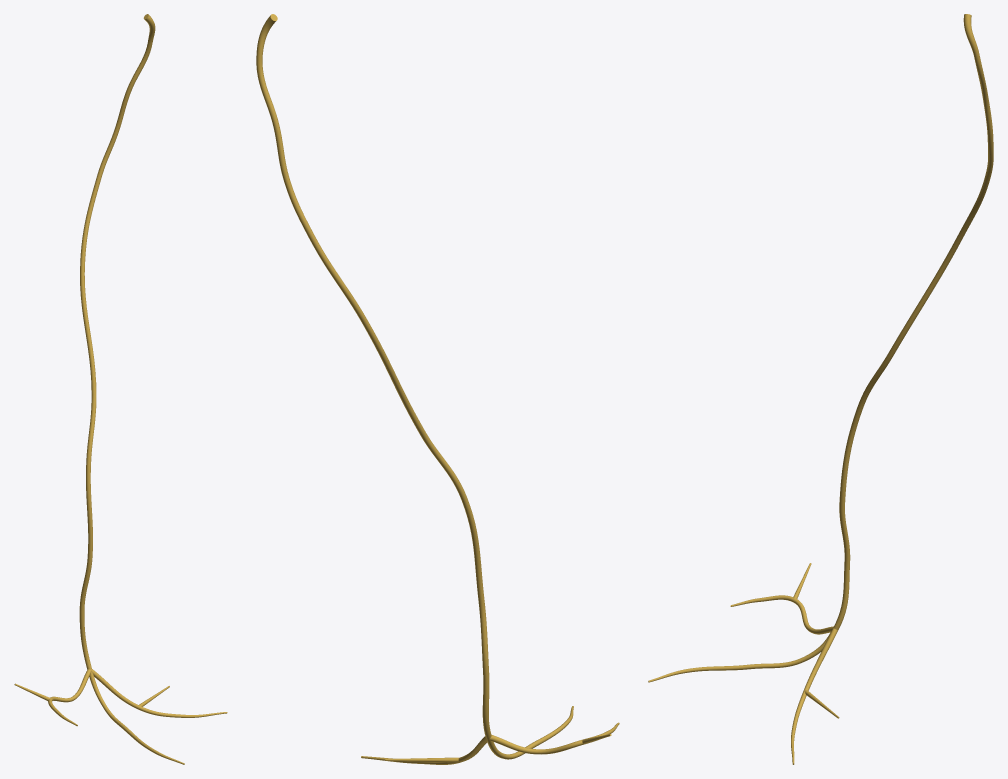
3 views of the same model, side by side, from view 1: azimuth 30°, elevation 25°; view 2: azimuth 150°, elevation 25°; view 3: azimuth 270°, elevation 25° (orthographic). The views are drawn at different scales.
Visible parts, largest first — view 1: 右侧眼神经; view 2: 右侧眼神经; view 3: 右侧眼神经.
Part boxes in pixels (<box>): 右侧眼神经: <box>14,14,227,764</box>; 右侧眼神经: <box>256,14,619,764</box>; 右侧眼神经: <box>648,14,993,764</box>.
Size of the model in its own units: 0.0432 by 0.1268 by 0.053.
